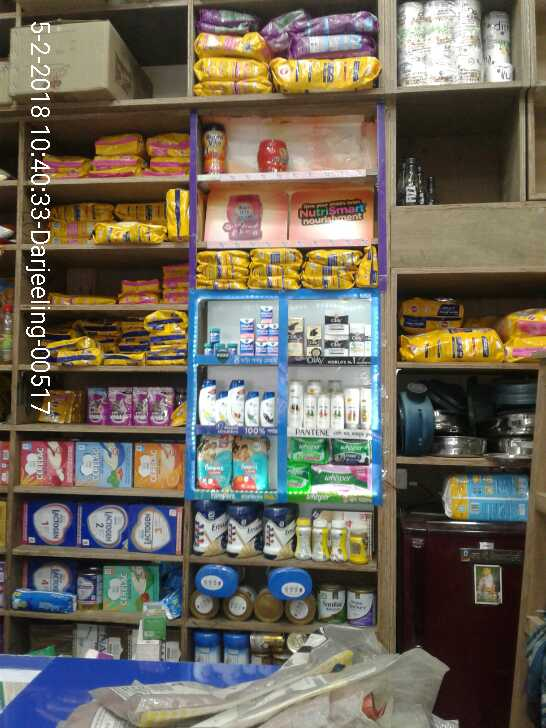vicks: (202, 301, 284, 356)
